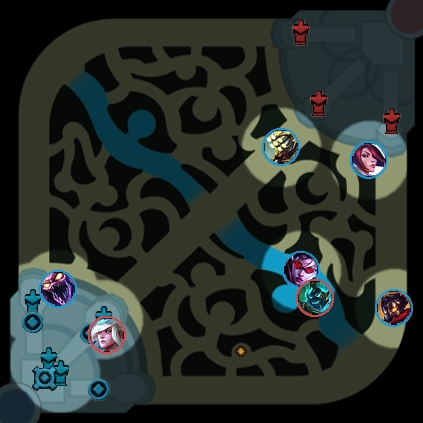Fiora: (350, 141, 388, 179)
Hecarim: (296, 279, 334, 317)
Janna: (88, 316, 126, 354)
MasterYi: (262, 128, 300, 166)
Skarner: (39, 270, 77, 308)
Vayne: (282, 251, 320, 289)
Viktor: (375, 289, 413, 327)
